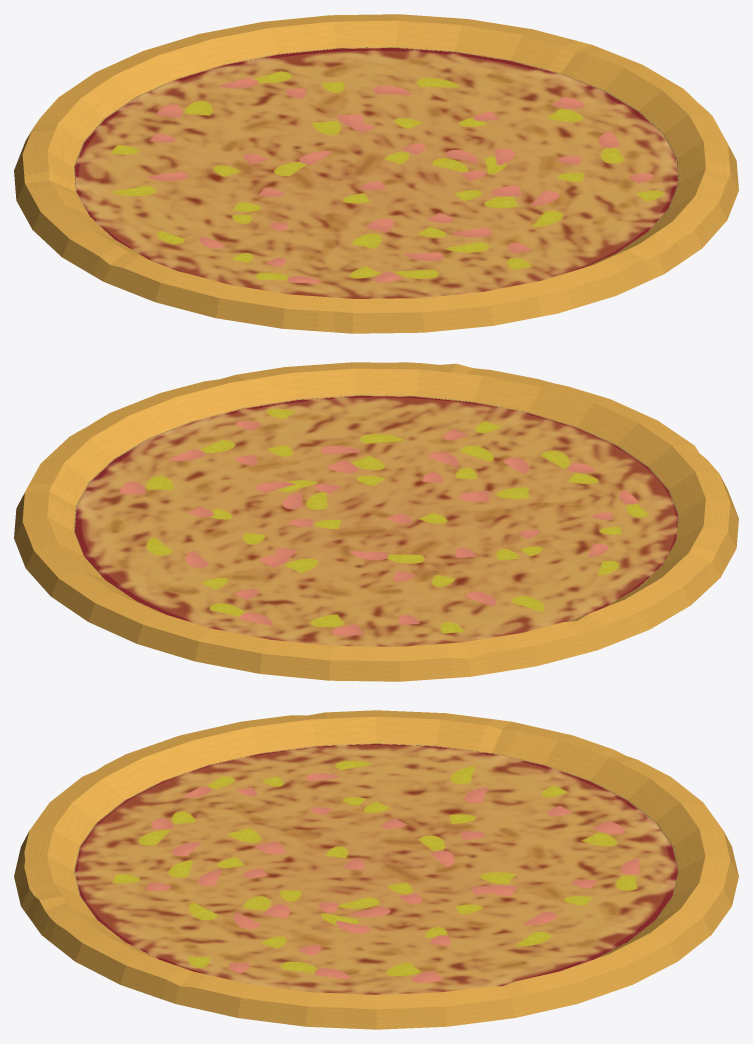
The model's file is WorldItem_PizzaHawaii.fbx.
The picture shows the model from 3 angles, top to bottom: view 1: azimuth 30°, elevation 25°; view 2: azimuth 150°, elevation 25°; view 3: azimuth 270°, elevation 25°; orthographic projection.
Visible parts, largest first — view 1: Pizza; view 2: Pizza; view 3: Pizza.
Boxes of the visible parts, bbox=[...] form: Pizza: bbox=[14, 14, 738, 333]; Pizza: bbox=[14, 362, 738, 681]; Pizza: bbox=[14, 710, 738, 1029].
Bounding box in the file's own units: 45.79 × 2.22 × 45.79.
